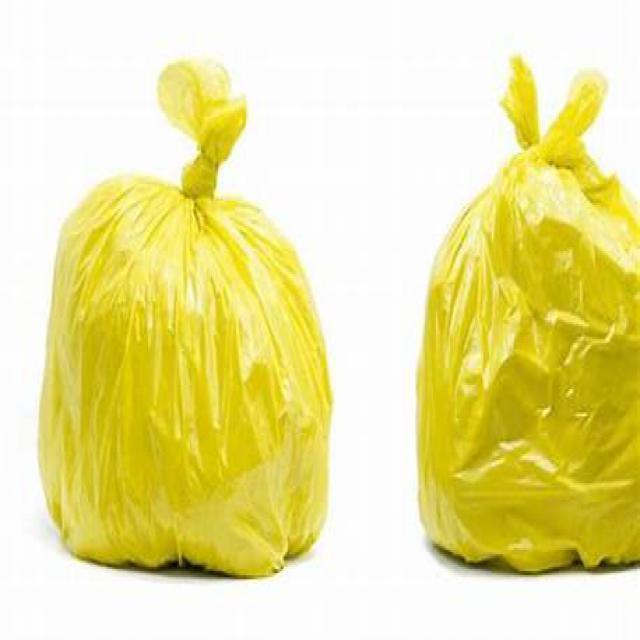waste: (41, 64, 322, 567), (419, 50, 639, 575)
